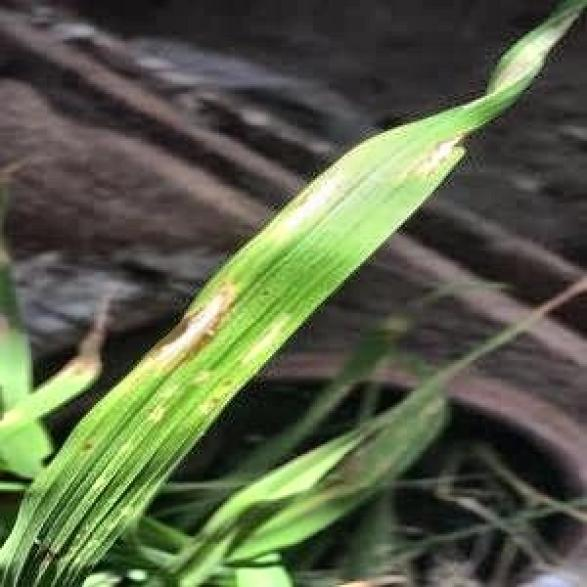Leaf_smut: (102, 250, 274, 428), (413, 43, 538, 198)
